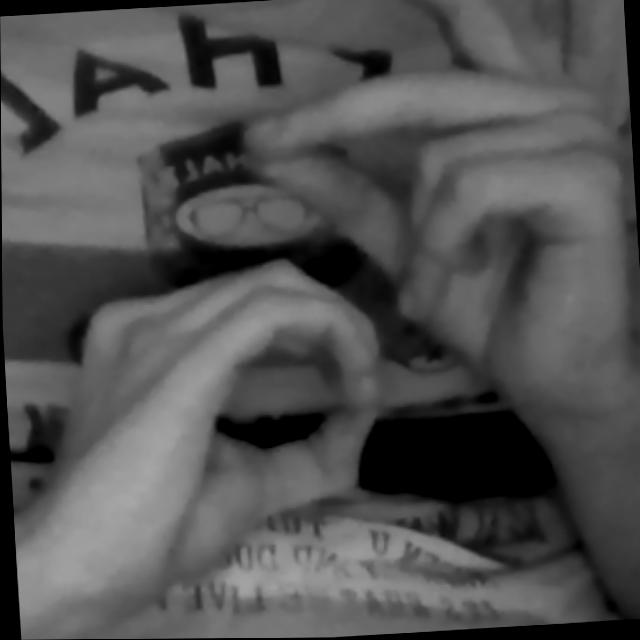O--: (13, 0, 640, 640)
